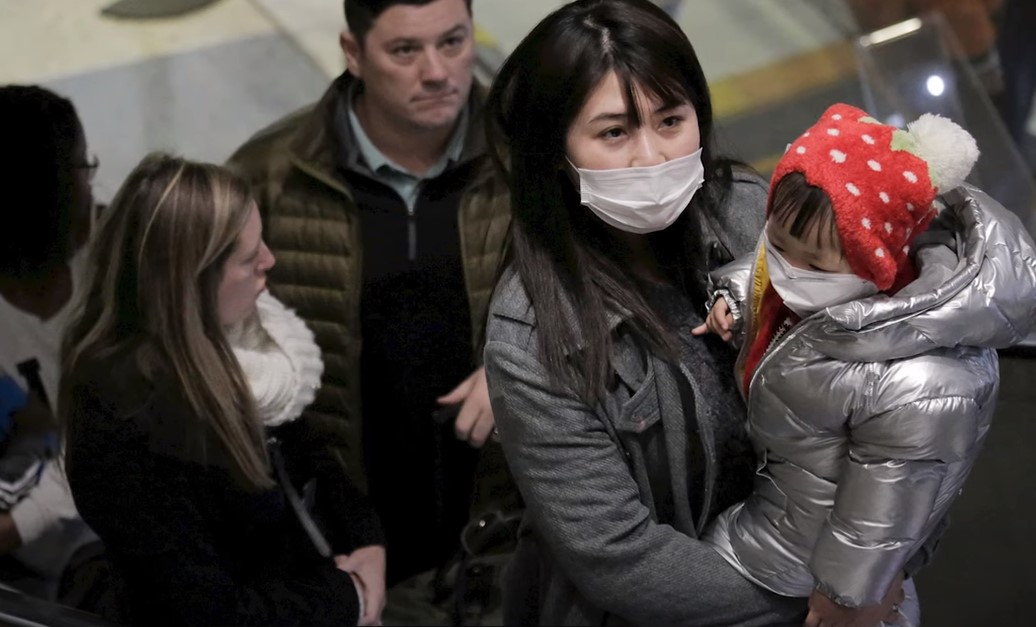face_no_mask: (132, 158, 276, 327), (336, 0, 481, 134)
face_with_mask: (533, 8, 711, 239), (773, 108, 928, 313)
